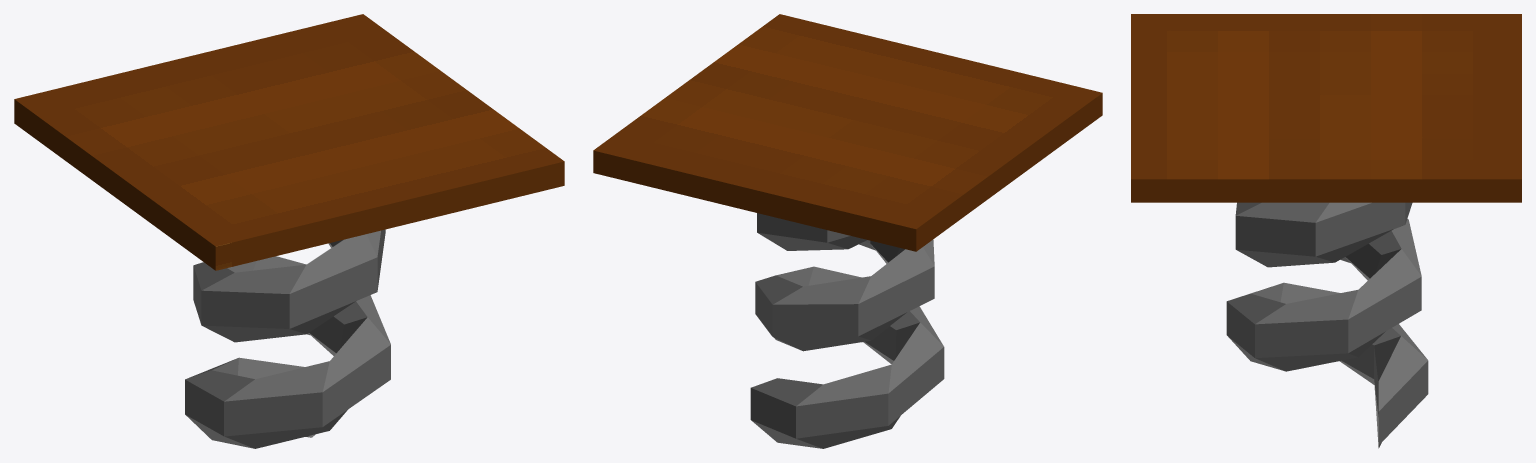
File: SpringBoard.fbx
The picture shows the model from 3 angles, left to right: view 1: azimuth 30°, elevation 25°; view 2: azimuth 150°, elevation 25°; view 3: azimuth 270°, elevation 25°; orthographic projection. The views are drawn at different scales.
Parts seen in each view (by area): view 1: Cylinder; view 2: Cylinder; view 3: Cylinder.
Boxes of the visible parts, box(x1,y1,x2,y2) form: Cylinder: box(14, 14, 564, 448); Cylinder: box(593, 14, 1102, 448); Cylinder: box(1131, 14, 1521, 448).
Size of the model in its own units: 750 by 697 by 750.
